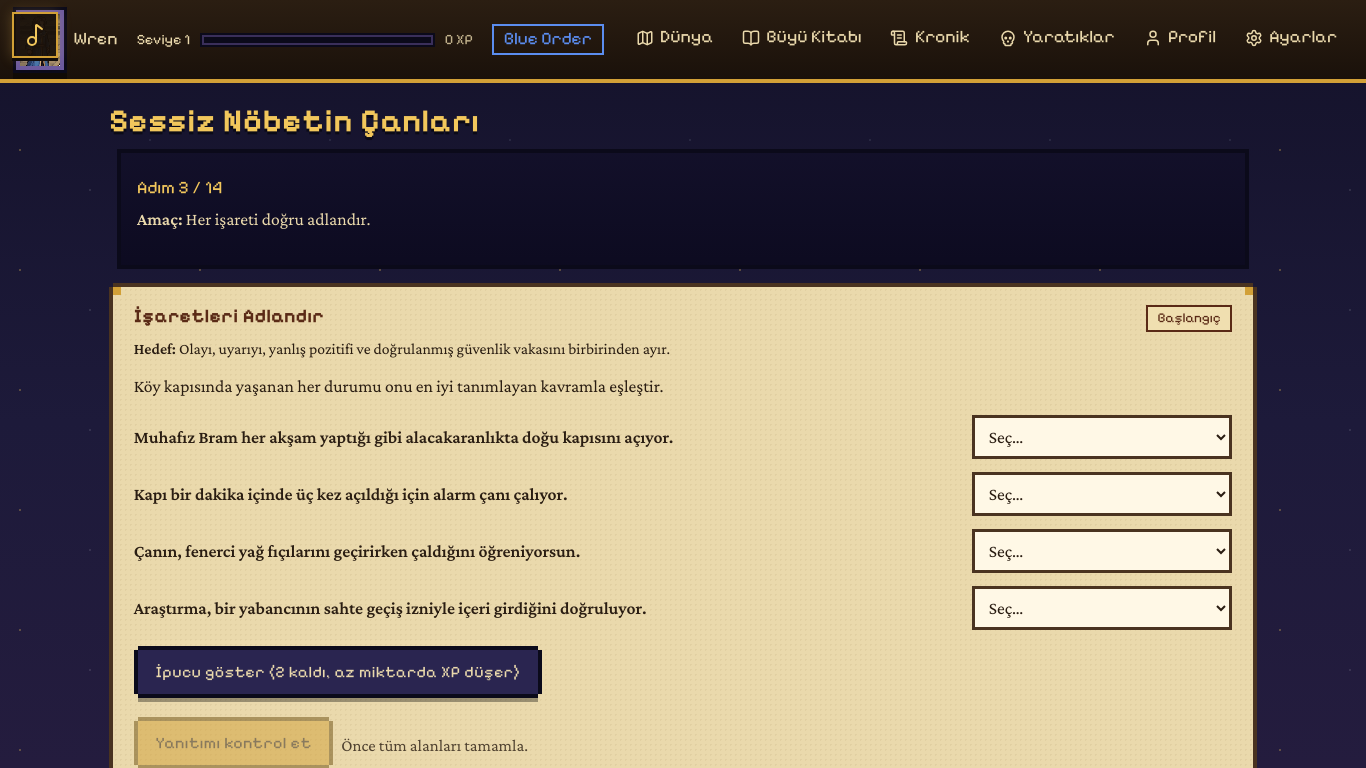
Test: chapter 1 in the UI › renders and completes the first challenge in Turkish
Expected: the heading "İşaretleri Adlandır" is shown, [134,304,324,327]
Expected: the text "Adım 3 / 14" is shown, [137,177,222,198]
Select "Olay" in the 1st dropdown at (1102, 437), box [972,415,1232,459]
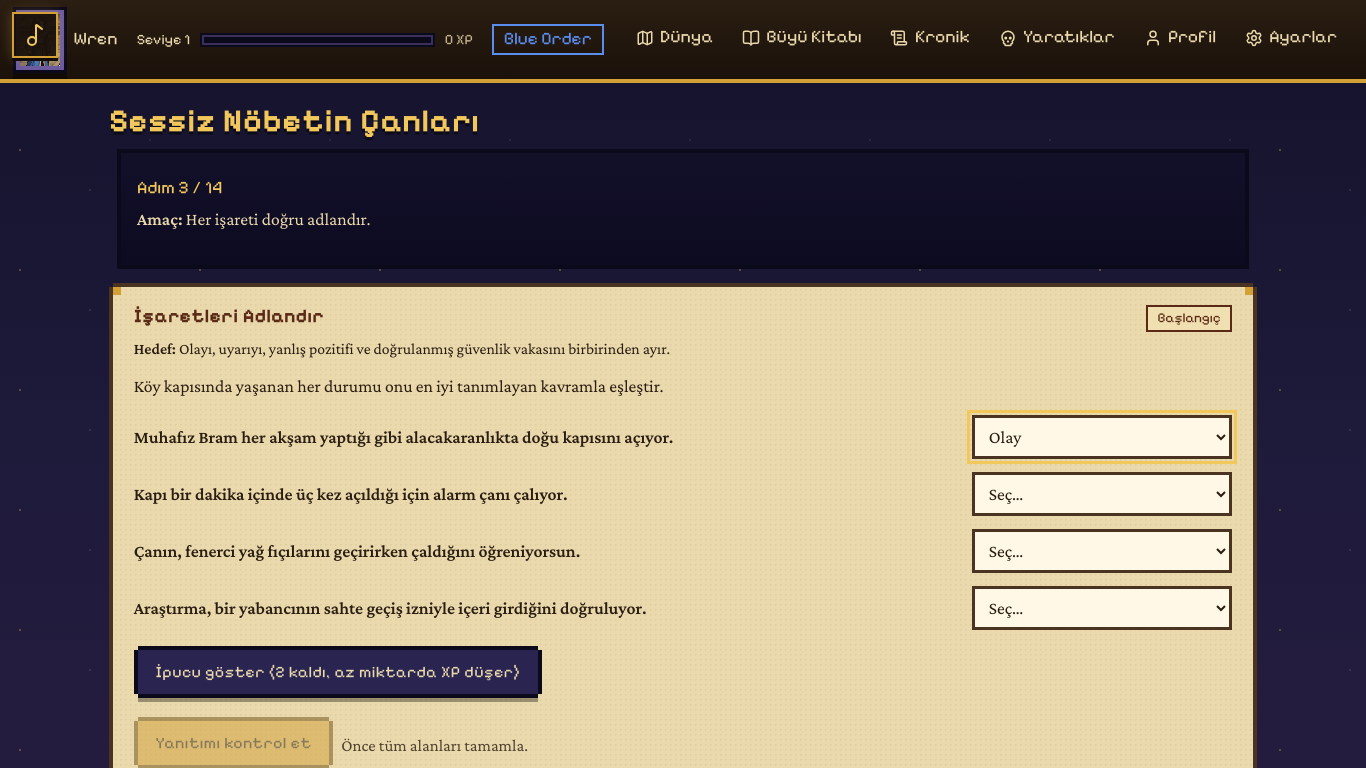
Select "Uyarı" in the 2nd dropdown at (1102, 494), box [972,472,1232,516]
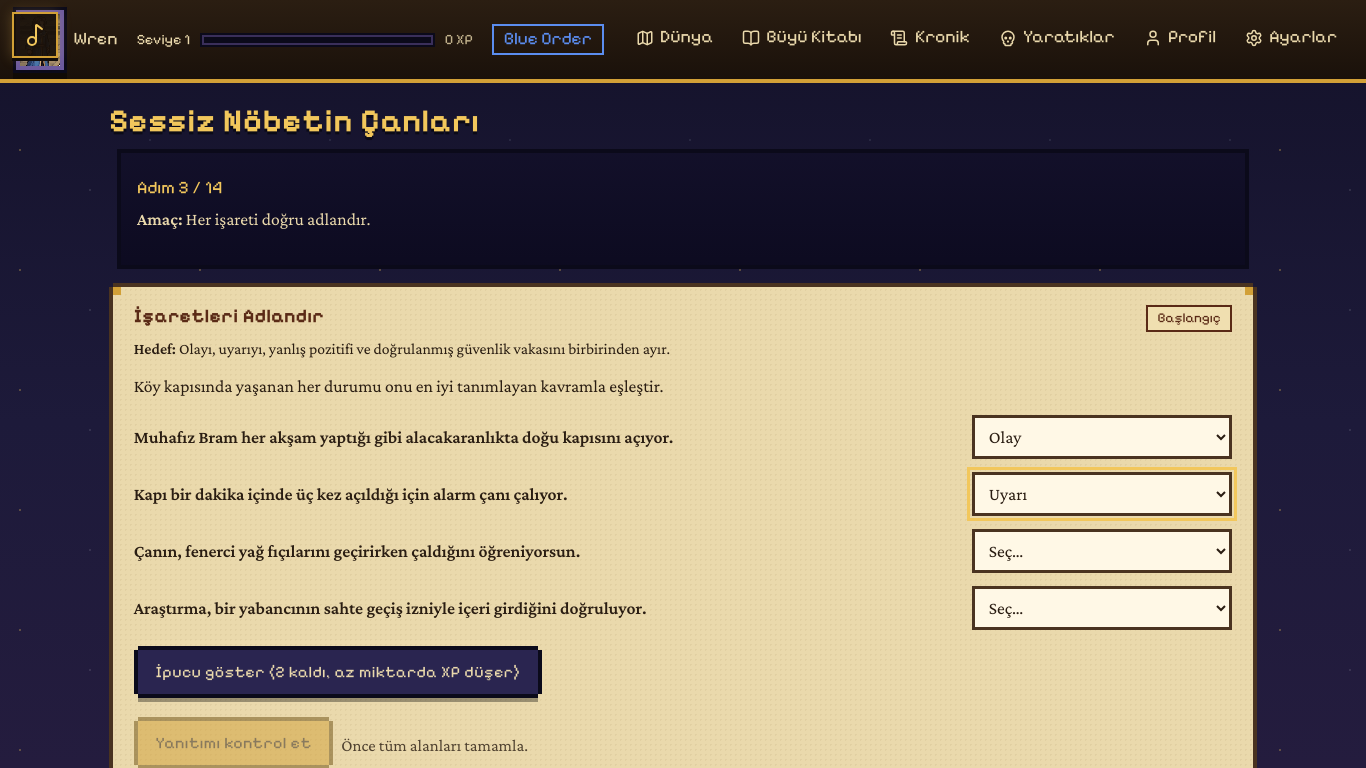
Select "Yanlış pozitif" in the 3rd dropdown at (1102, 551), box [972,529,1232,573]
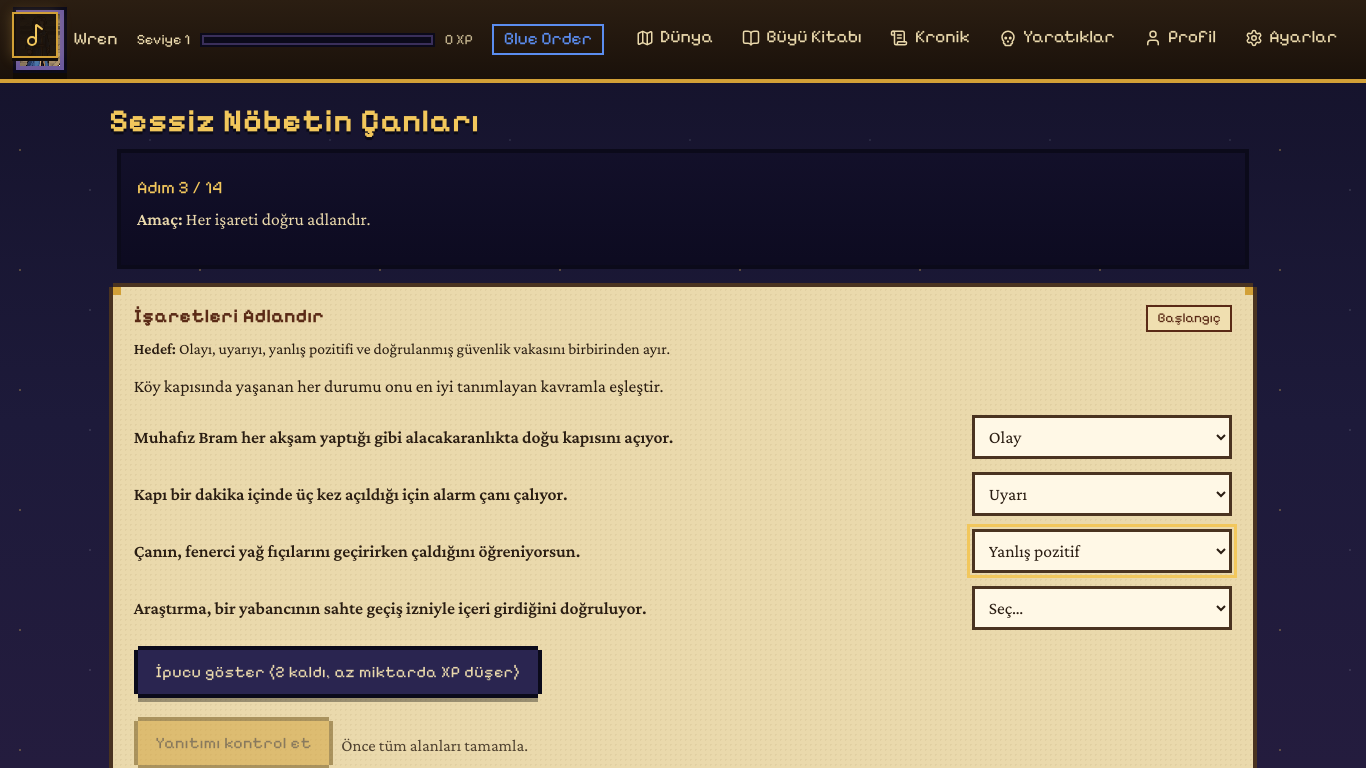
Select "Doğrulanmış güvenlik vakası" in the 4th dropdown at (1102, 608), box [972,586,1232,630]
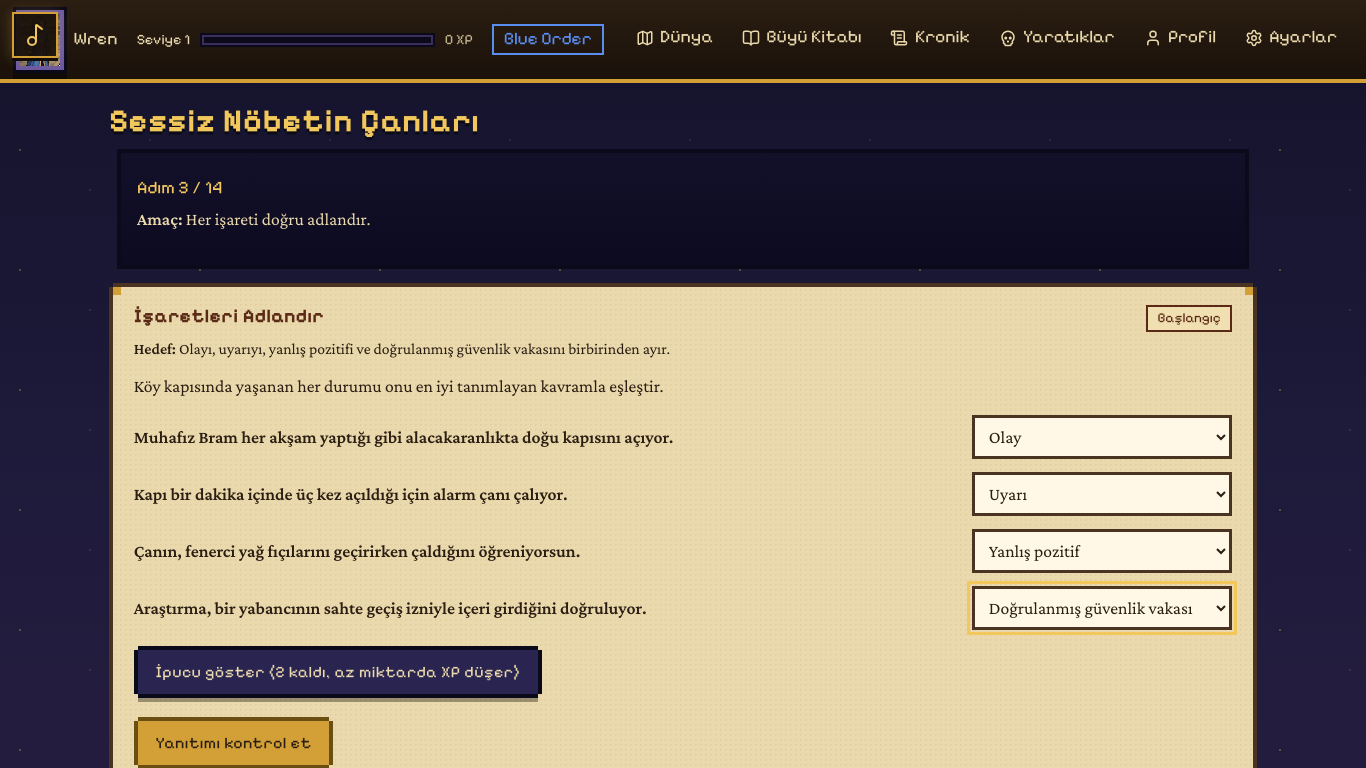
Click the button "Yanıtımı kontrol et" at (234, 743), box [138,721,329,765]
(page scrolled)
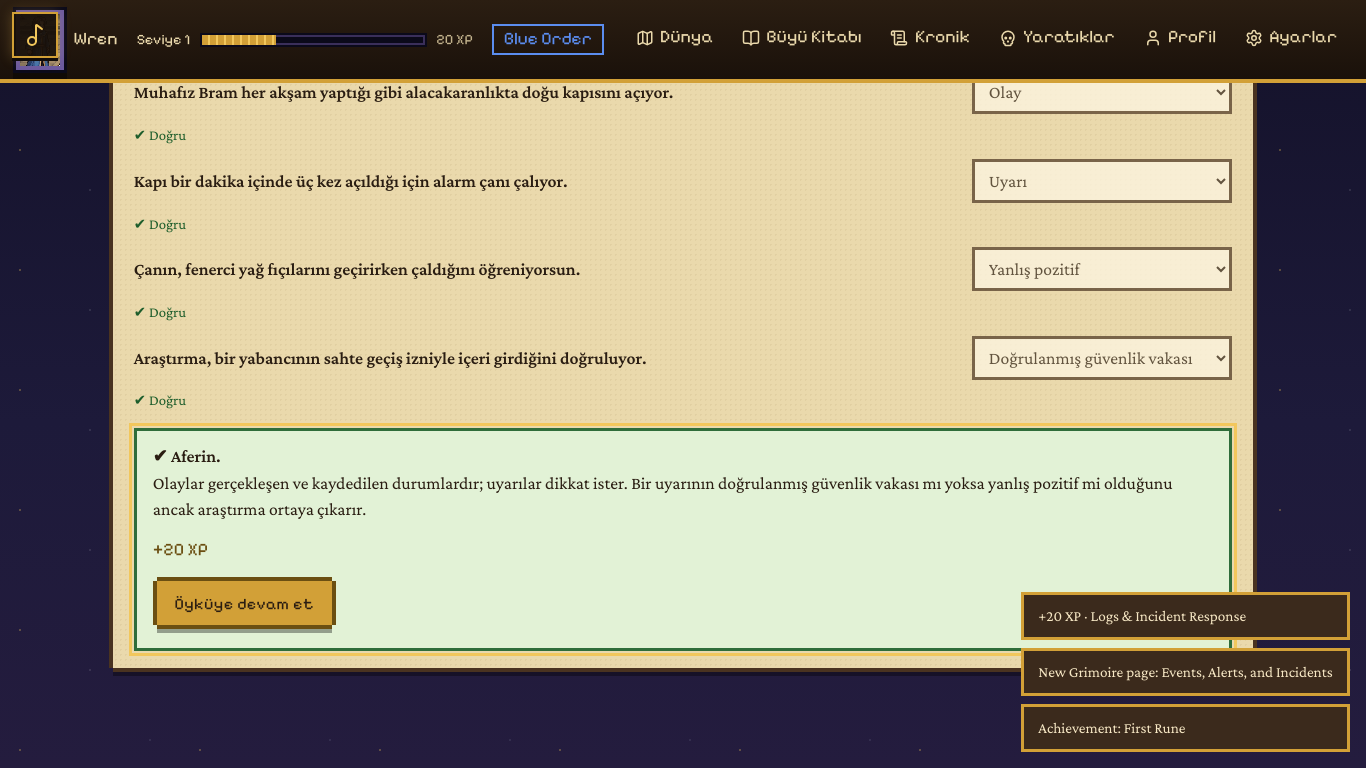
Now the text "✔ Aferin." is shown, box [153,446,221,466]
Click the button "Öyküye devam et" at (244, 603), box [157,581,332,625]
(page scrolled)
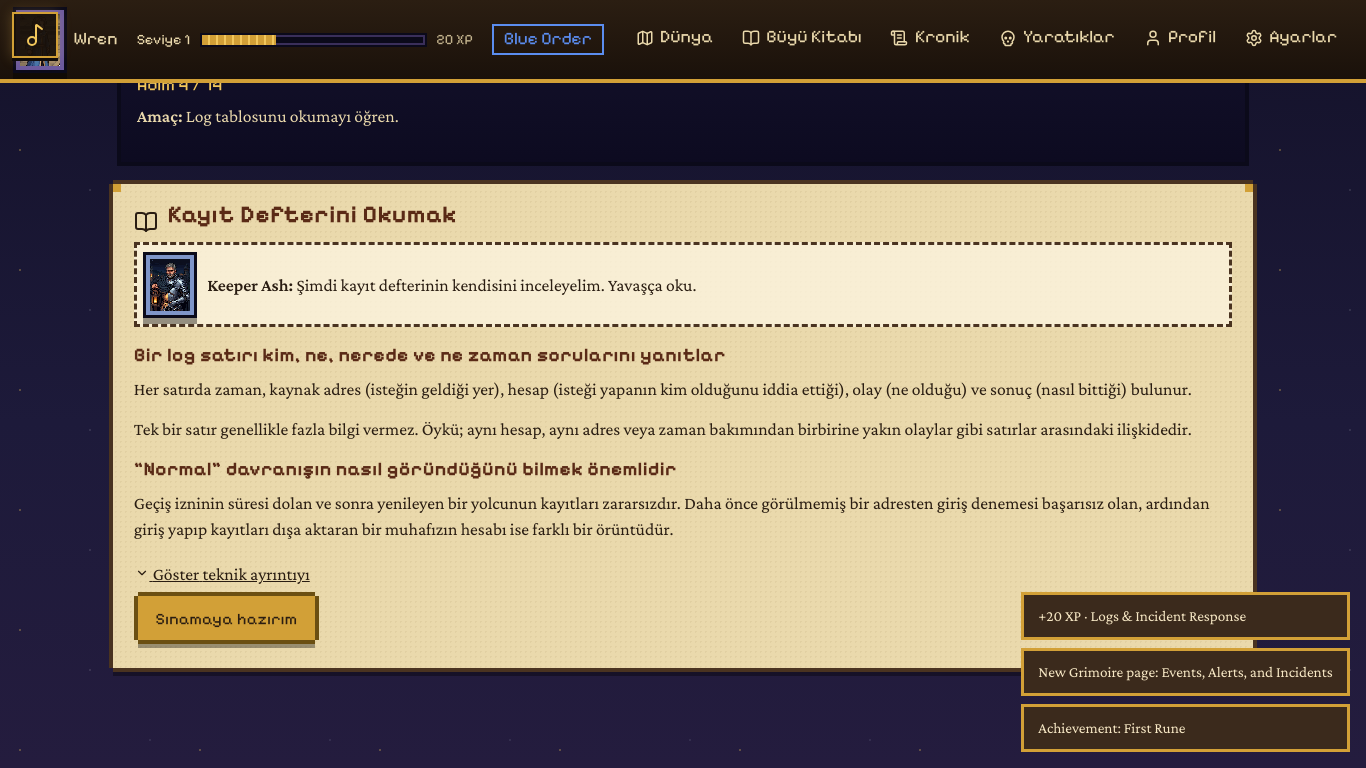
Now the heading "Kayıt Defterini Okumak" is shown, box [167,201,457,230]
